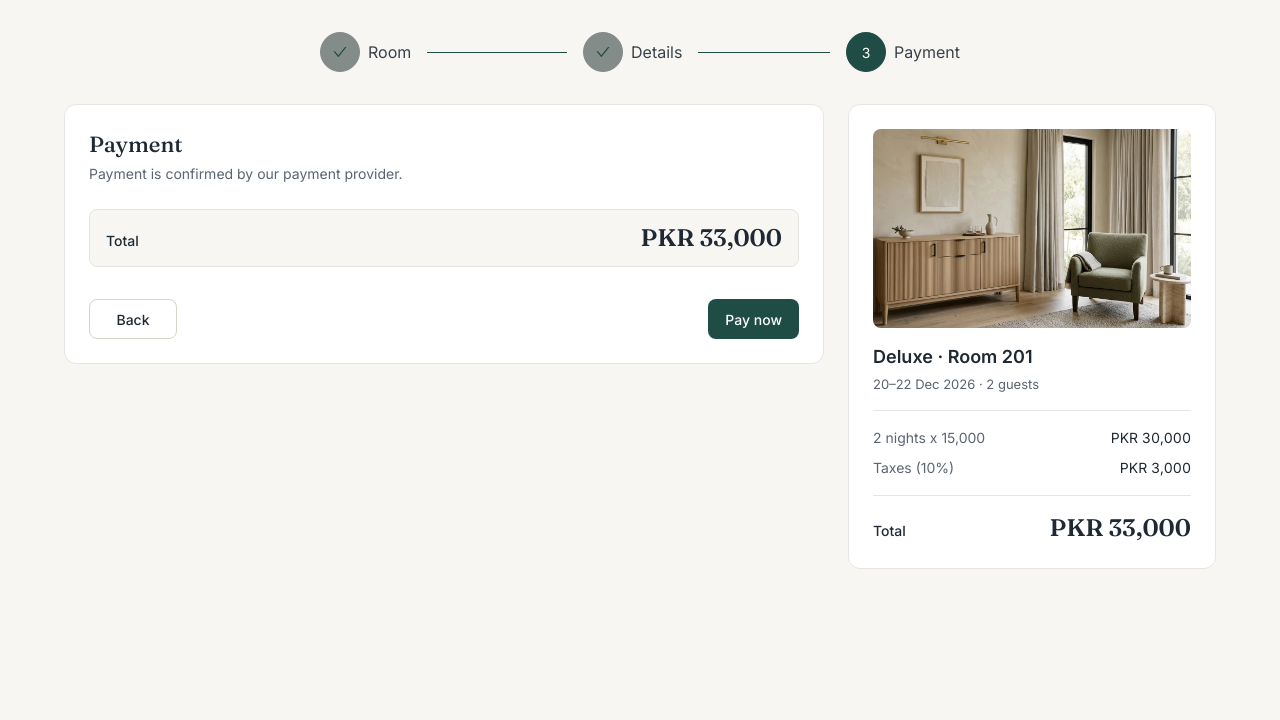
Test: BookingFlowView › reuses the same Idempotency-Key UUID on retry after failure and handles 422 field errors
Click the button "Pay now" at (754, 319), box [708, 299, 799, 339]
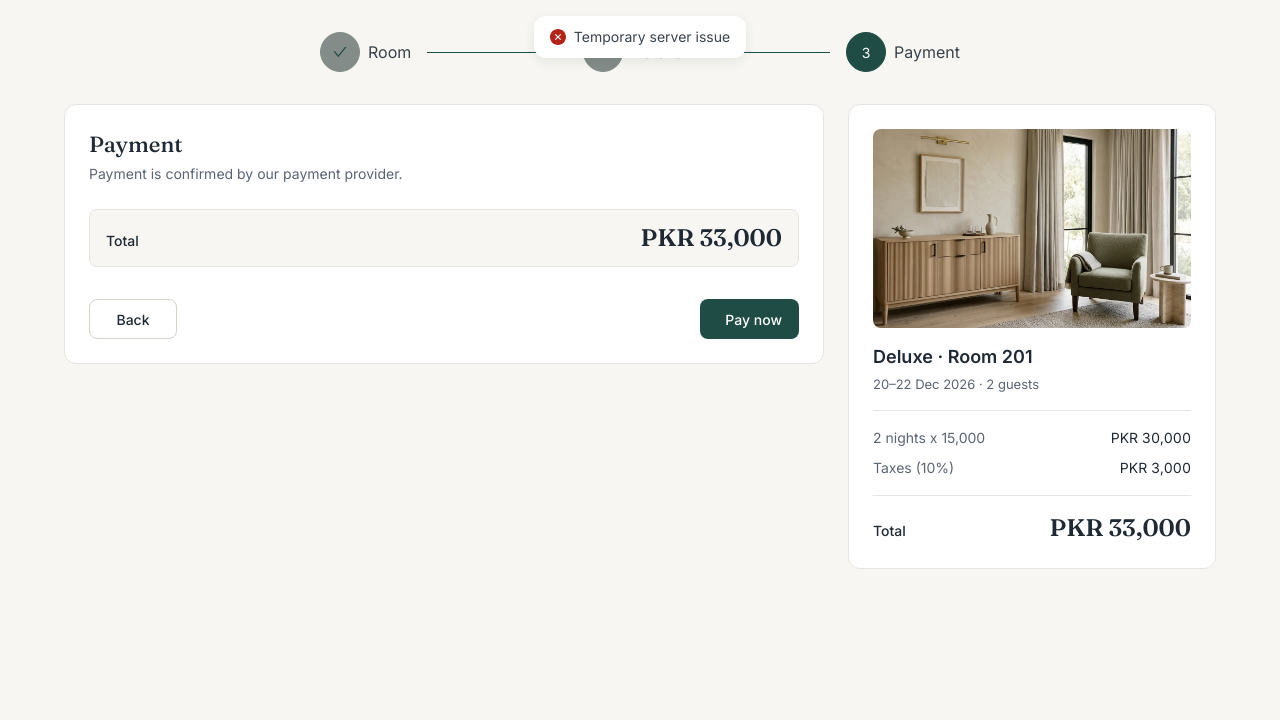
Expected: the text "Temporary server issue" is shown, [574, 26, 730, 48]
Click the button "Pay now" at (750, 319), box [700, 299, 799, 339]
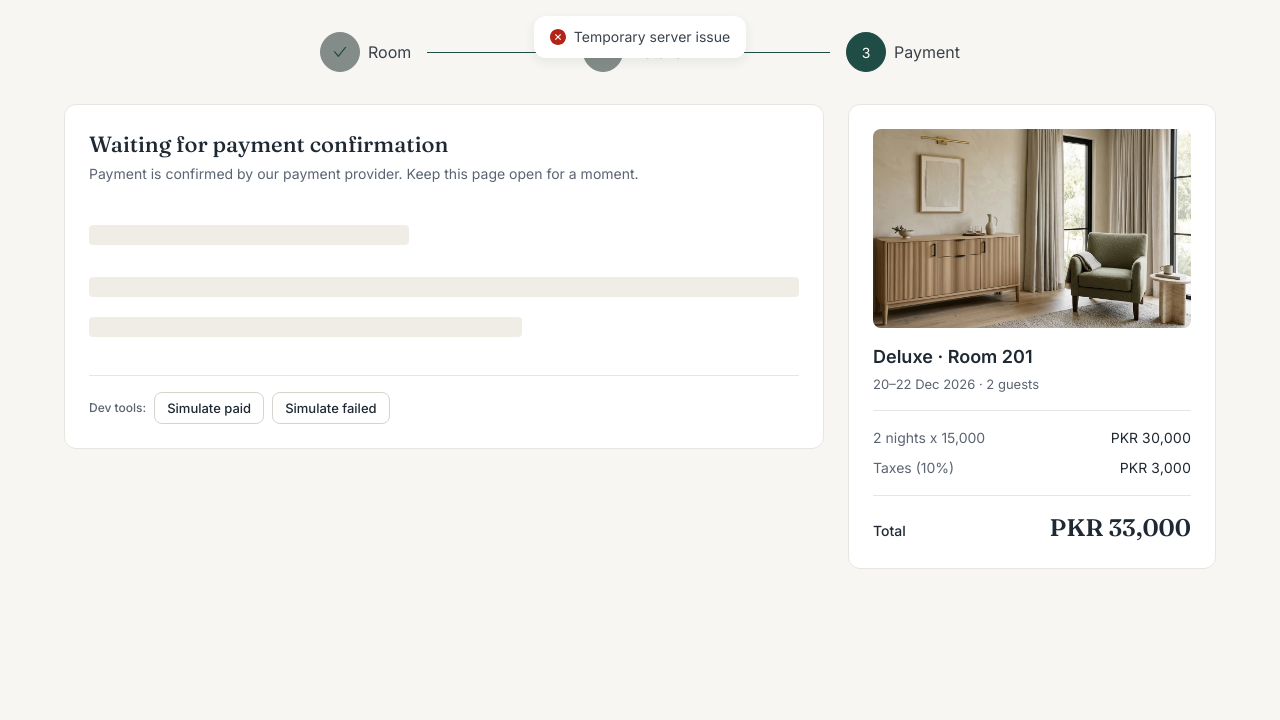
Expected: the element with test id "payment-waiting-card" is shown, [64, 104, 824, 449]
Click the button "Simulate paid" at (209, 408), box [154, 392, 264, 424]
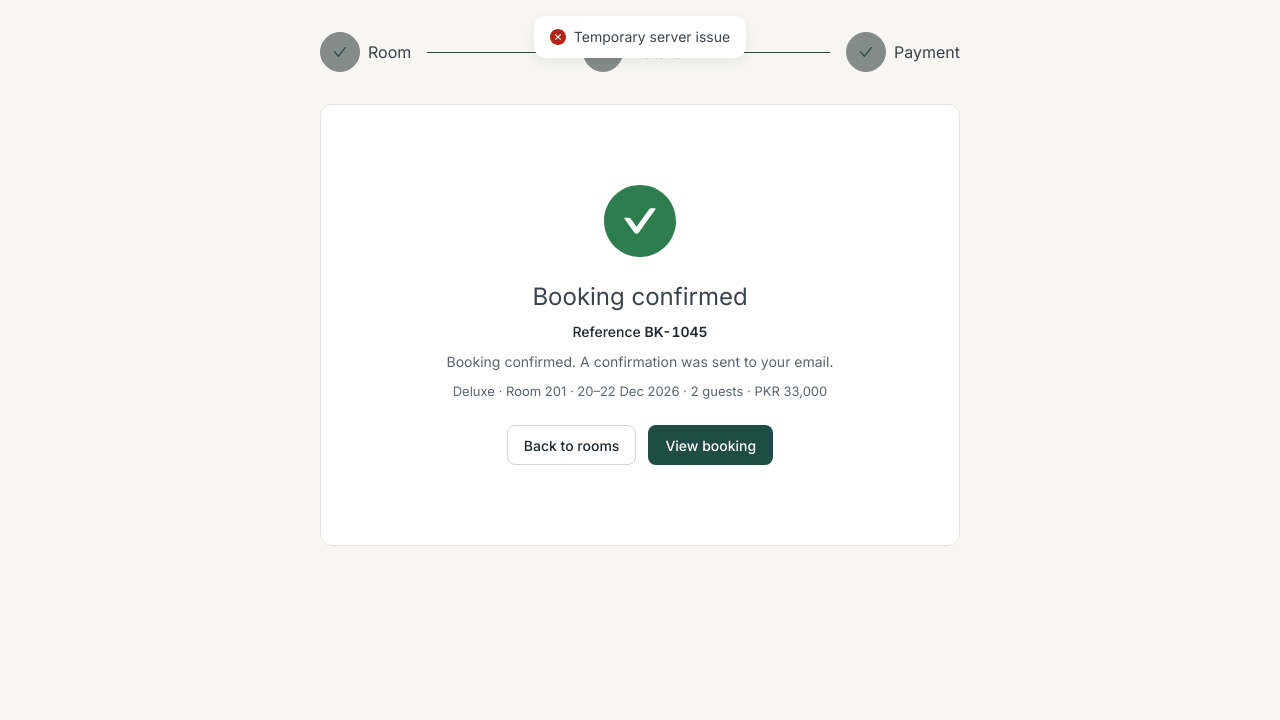
Expected: the element with test id "booking-result-card" is shown, [320, 104, 960, 546]
